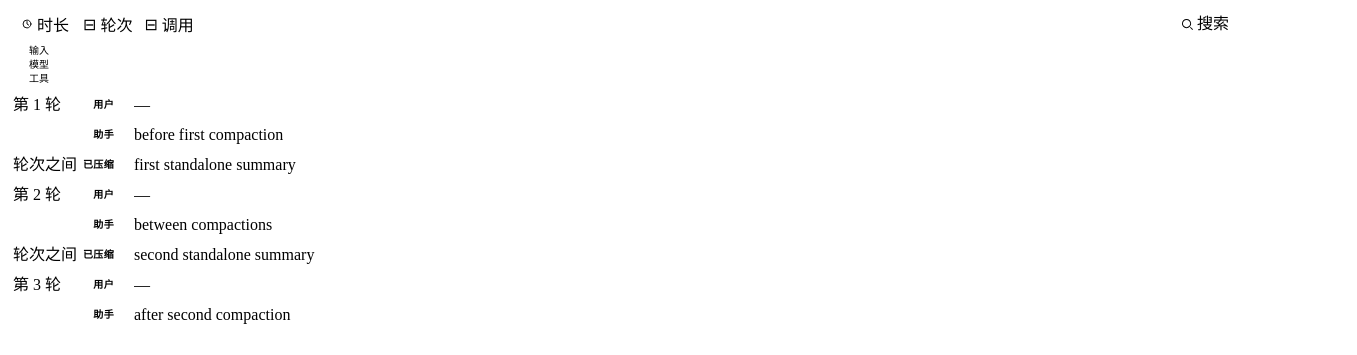
Test case: ledger and inspector (standalone host) › activates only the selected standalone compaction section
The width and height of the screenshot is (1357, 355).
Expected: the text "轮次之间" in the row of "first standalone summary" is shown, [13,156,77,173]
Expected: the text "轮次之间" in the row of "second standalone summary" is shown, [13,246,77,263]
Click the button named "请求 #2 · 压缩" at (28, 150), box [20,142,36,158]
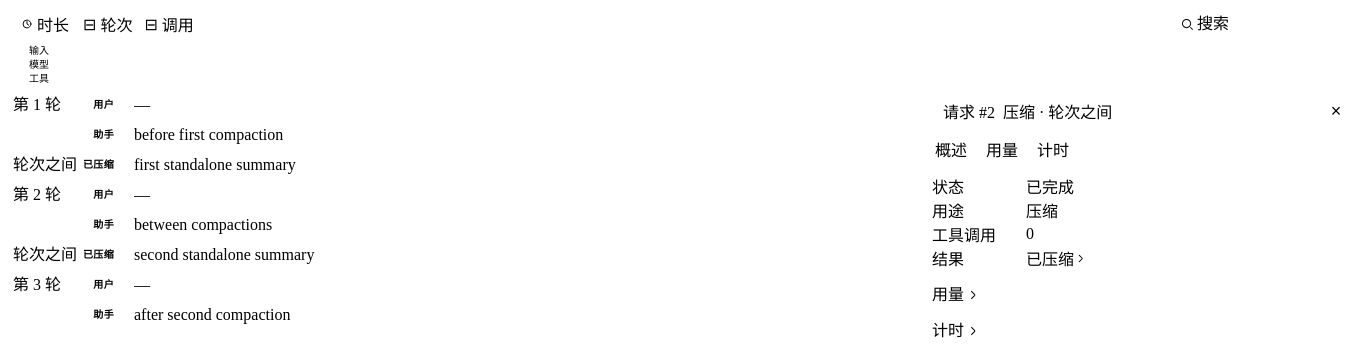
Expected: the text "请求 #2" is shown, [943,99,995,123]
Expected: the text "压缩 · 轮次之间" is shown, [1003,99,1112,123]
Click the button named "请求 #4 · 压缩" at (28, 240), box [20,232,36,248]
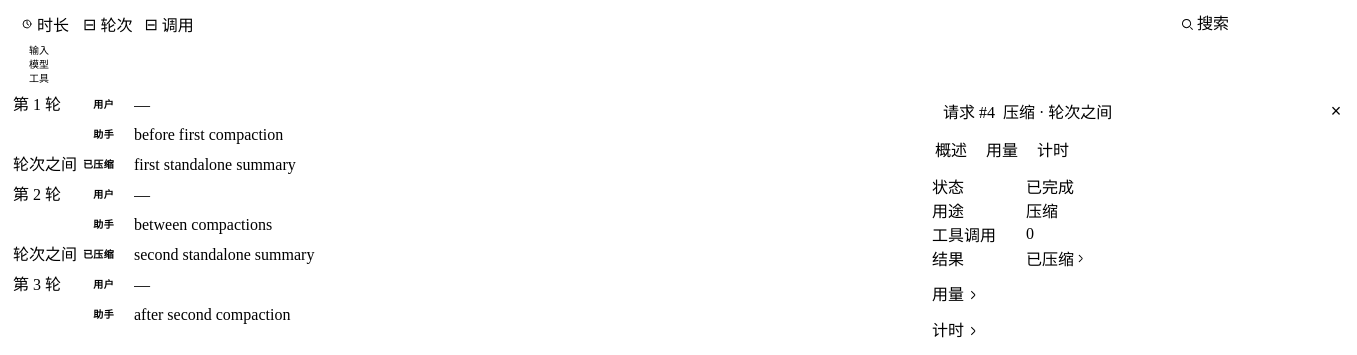
Expected: the text "压缩 · 轮次之间" is shown, [1003,99,1112,123]
Expected: the text "请求 #4" is shown, [943,99,995,123]
